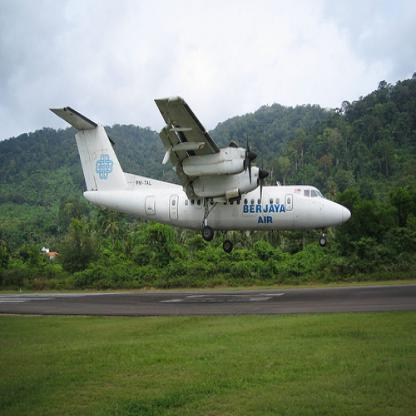aeroplane: (46, 92, 353, 255)
